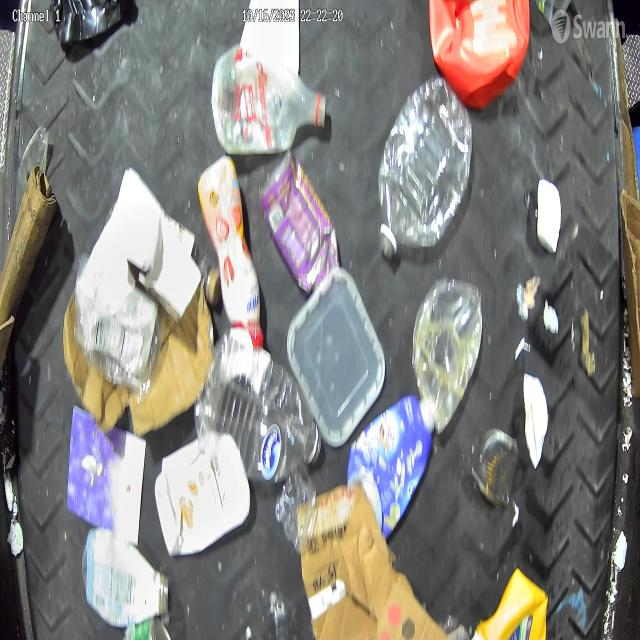can: (470, 426, 519, 506), (122, 615, 176, 639)
non_white_jug: (155, 432, 250, 558), (429, 0, 534, 108), (471, 567, 549, 640)
plastic_bottle: (196, 332, 320, 481), (381, 75, 473, 257), (213, 51, 328, 156), (414, 280, 484, 433)
